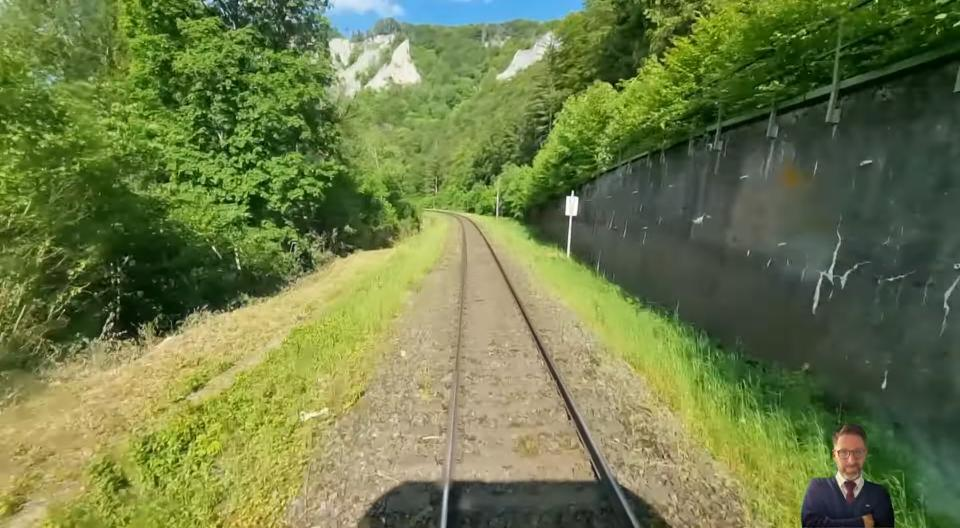Plant: (68, 220, 448, 528), (481, 215, 832, 528), (865, 463, 943, 528)
